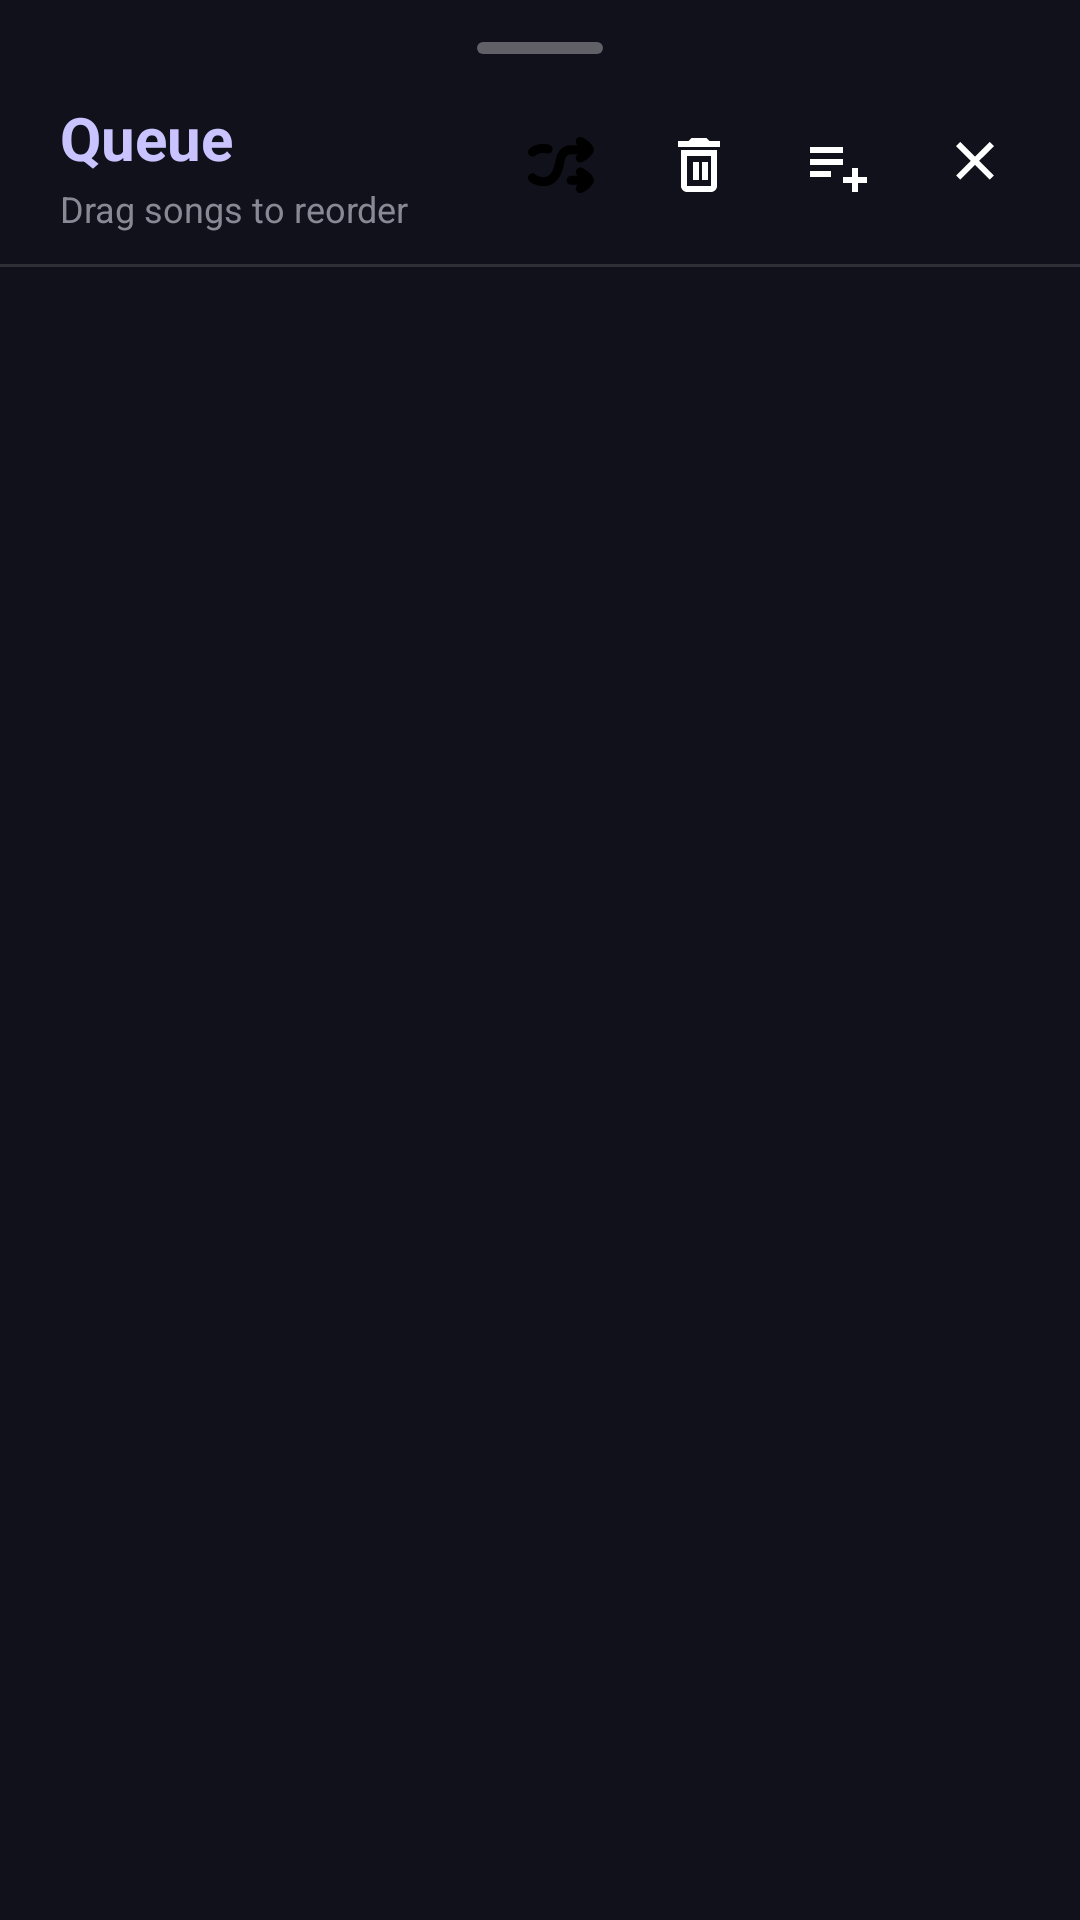

Locate icon controls on the screen. Image size 1080x1920, boxes as (x1, y1, x2, y2).
Clear queue: (678, 138, 720, 192)
Close: (956, 142, 994, 180)
Save as playlist: (810, 147, 867, 192)
Shuffle: (528, 137, 594, 193)
